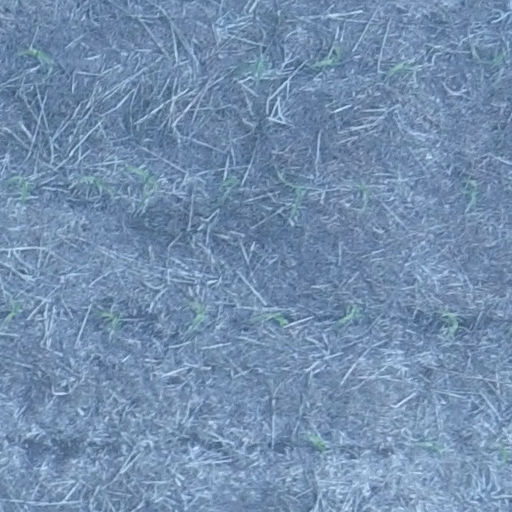planta: (124, 164, 160, 209), (80, 174, 117, 206), (278, 174, 303, 219), (312, 43, 343, 69), (7, 173, 32, 204), (254, 310, 290, 329), (14, 45, 51, 63), (438, 308, 460, 337), (187, 299, 208, 329), (411, 439, 448, 456), (96, 308, 122, 330), (352, 181, 371, 211), (463, 177, 479, 212), (337, 303, 361, 326), (1, 299, 22, 325), (305, 432, 329, 454), (386, 60, 409, 77), (494, 443, 511, 463), (492, 51, 507, 66), (221, 175, 239, 186), (254, 58, 266, 72)
